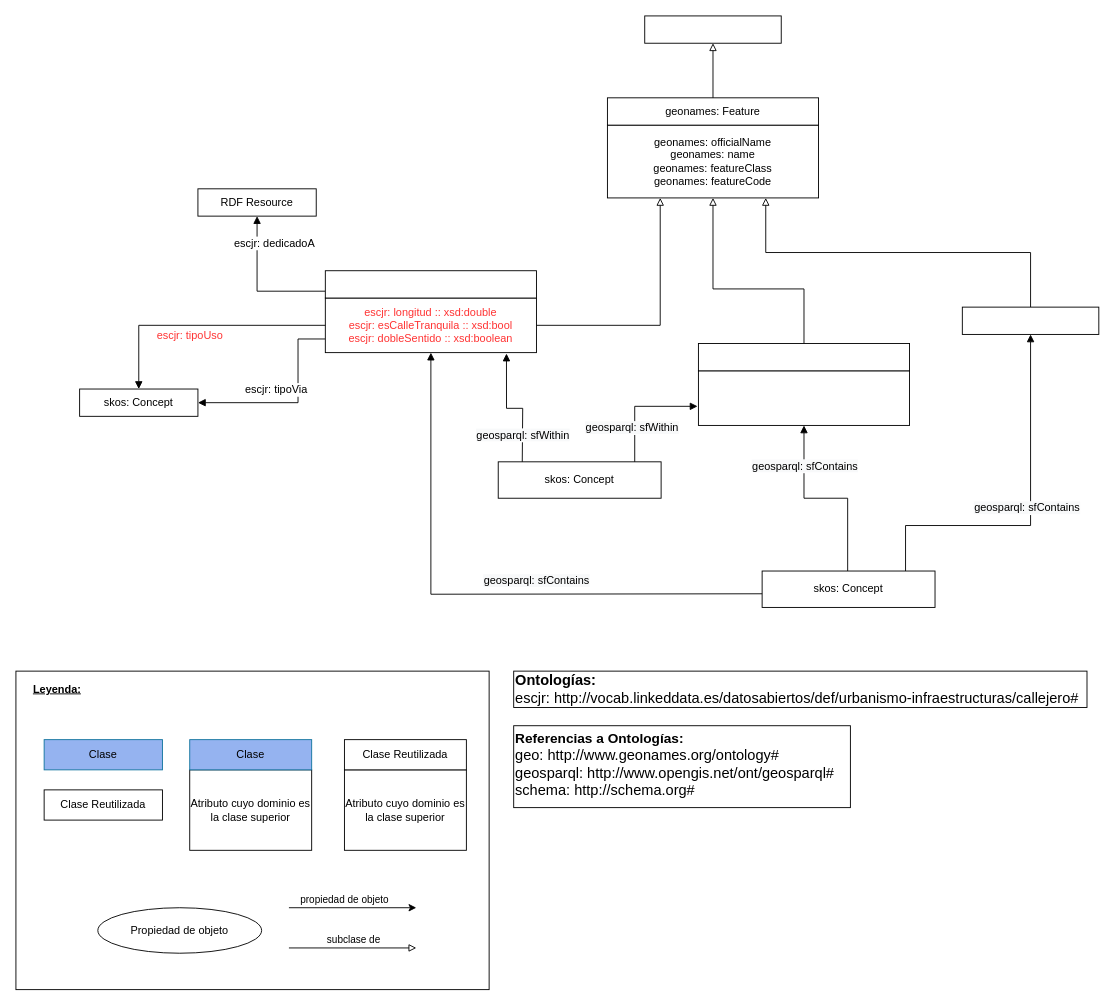
Image size: 1115x1006. Some labels were removed from this diagram. The centre of each missing label's shape, as x and y in pixels:
"escjr: numeroInicioTramo :: xsd:string escjr: numeroFinTramo :: xsd:string" goes at [804,397].
"escjr: Portal" goes at [1030,320].
"escjr: TramoVia" goes at [804,357].
"escjr: Via" goes at [430,284].
"schema:Place" goes at [712,29].
